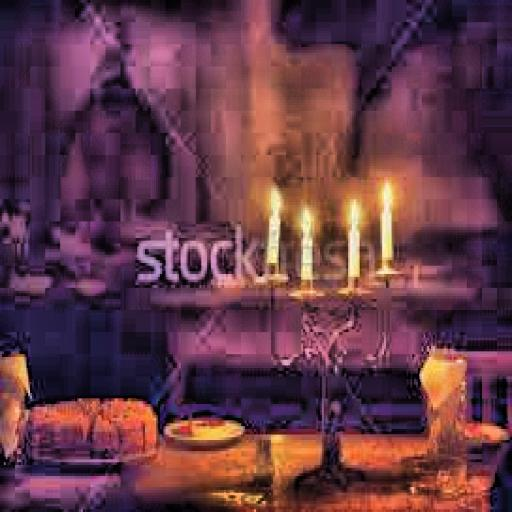fire: (266, 171, 286, 216), (376, 171, 396, 216), (296, 202, 312, 238), (344, 194, 360, 230)
